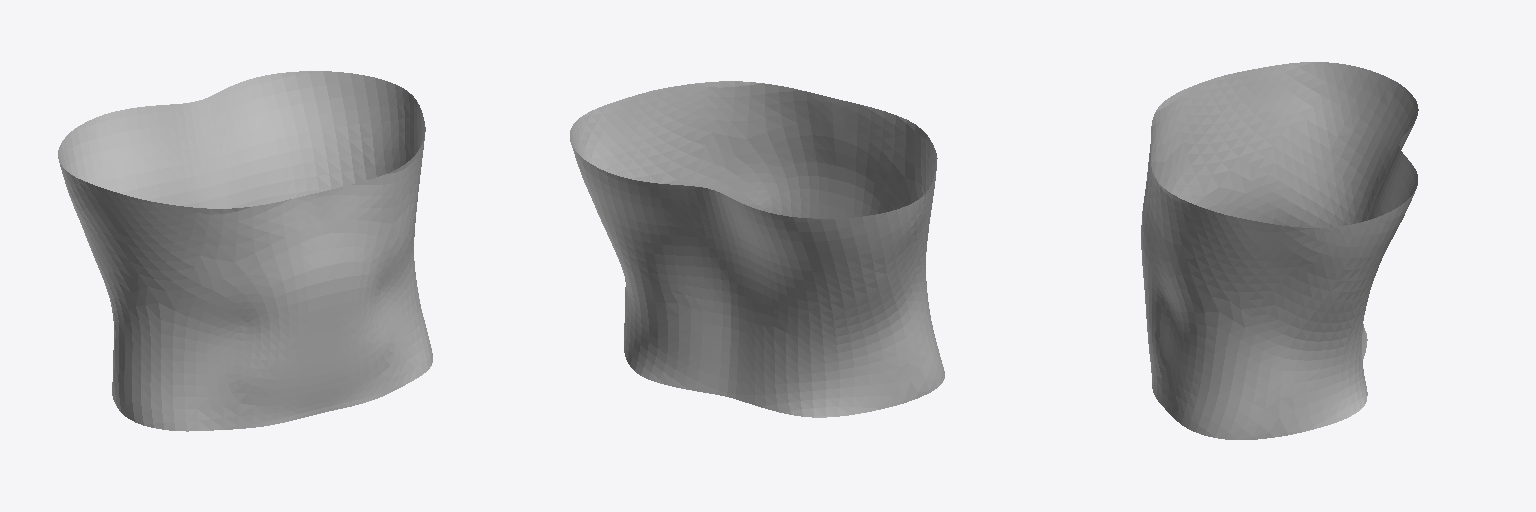
File: abdomen.obj
The picture shows the model from 3 angles: view 1: azimuth 30°, elevation 25°; view 2: azimuth 150°, elevation 25°; view 3: azimuth 270°, elevation 25°; orthographic projection.
Parts seen in each view (by area): view 1: abdomen; view 2: abdomen; view 3: abdomen.
Part boxes in pixels (x1,y1,x2,y2): abdomen: (58, 71, 432, 431); abdomen: (570, 81, 944, 417); abdomen: (1141, 62, 1418, 439).
Size of the model in its own units: 3.99 by 2.51 by 2.83.